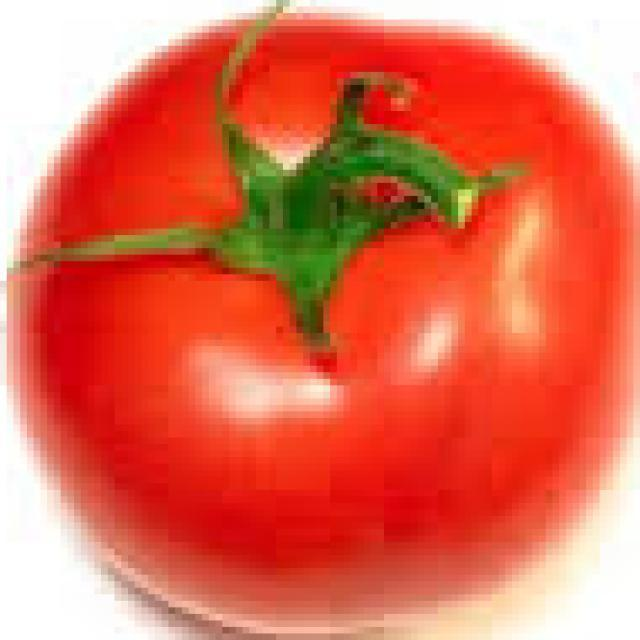Healthy: (21, 9, 640, 625)
